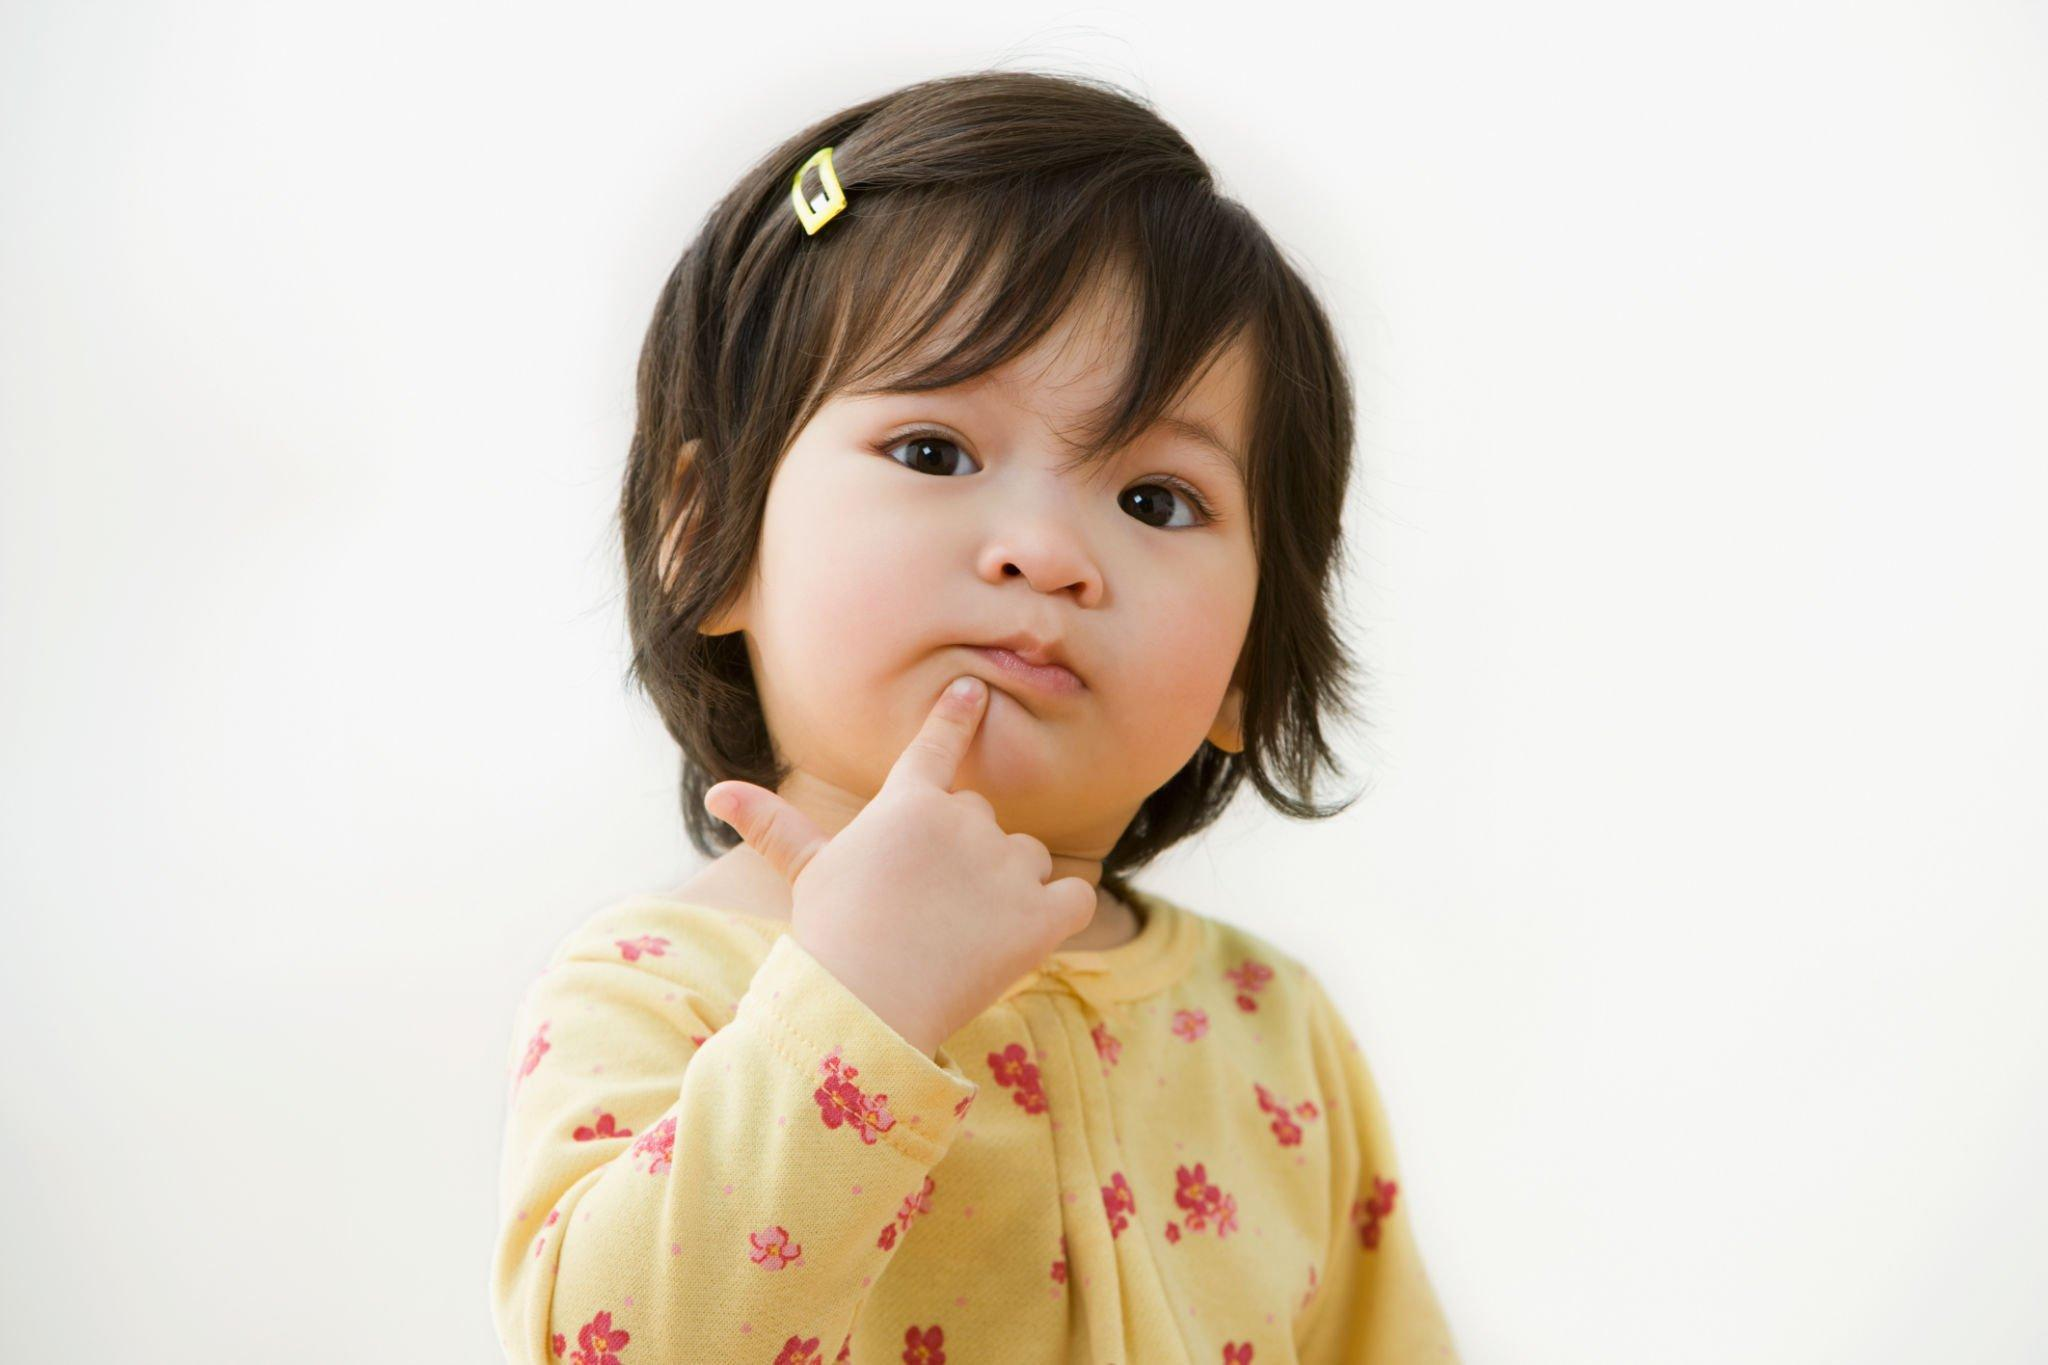Healthy: (697, 122, 1299, 812)
